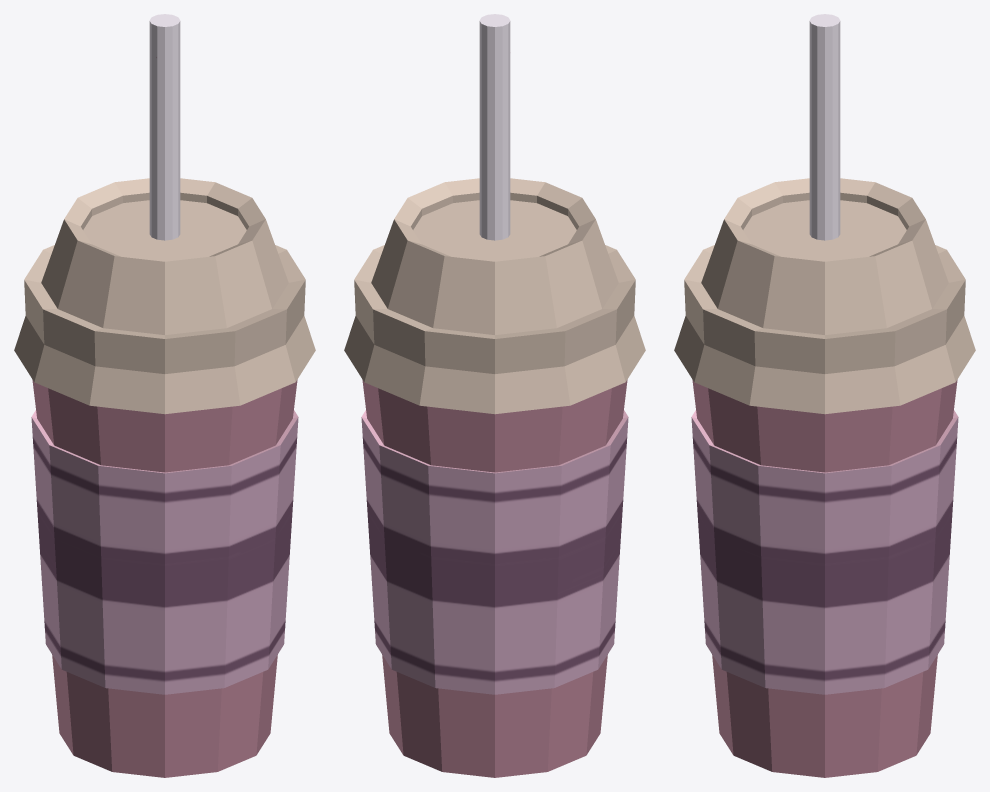
File: cocktail.fbx
3 renders of one model, left to right at view 1: azimuth 30°, elevation 25°; view 2: azimuth 150°, elevation 25°; view 3: azimuth 270°, elevation 25°, orthographic.
Parts seen in each view (by area): view 1: cocktail; view 2: cocktail; view 3: cocktail.
Part boxes in pixels (x1,y1,x2,y2): cocktail: [14, 14, 315, 777]; cocktail: [344, 14, 645, 777]; cocktail: [674, 14, 975, 777].
Bounding box in the file's own units: 69.89 × 182 × 69.89.
